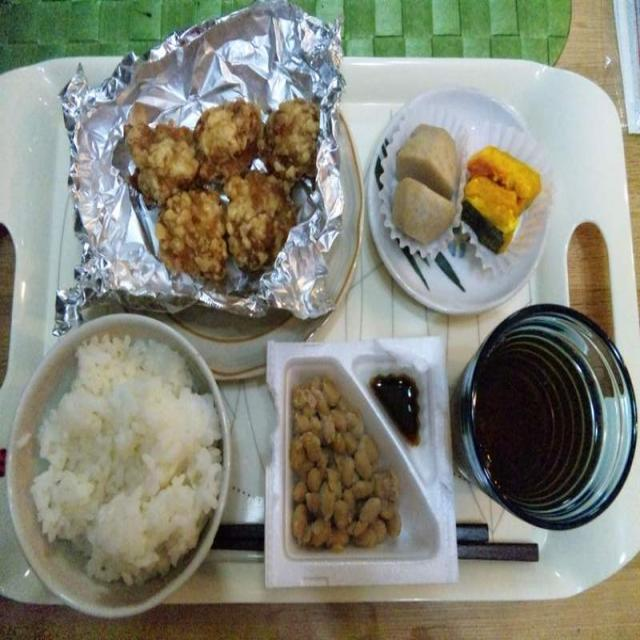Rice: (2, 304, 230, 630)
